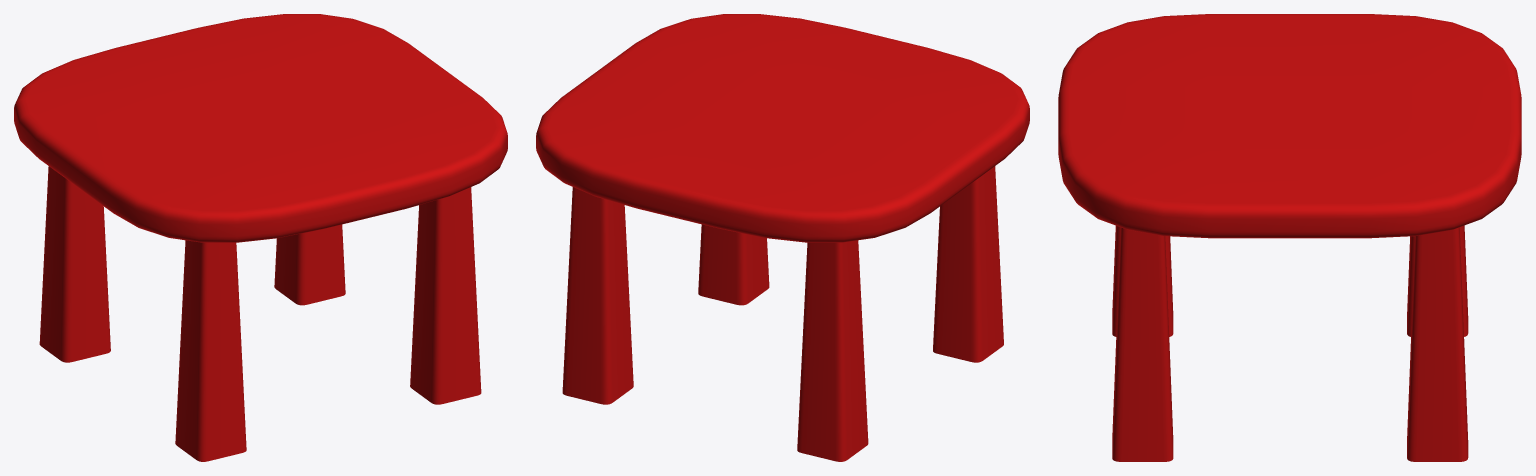
The model's file is Play_table_Red.fbx.
3 renders of one model, left to right at view 1: azimuth 30°, elevation 25°; view 2: azimuth 150°, elevation 25°; view 3: azimuth 270°, elevation 25°, orthographic. The views are drawn at different scales.
Parts seen in each view (by area): view 1: Play_Chair_Red; view 2: Play_Chair_Red; view 3: Play_Chair_Red.
Part boxes in pixels (x1,y1,x2,y2): Play_Chair_Red: (14,14,507,461); Play_Chair_Red: (536,14,1029,461); Play_Chair_Red: (1058,14,1521,461).
Size of the model in its own units: 20.37 by 13.27 by 20.07.
